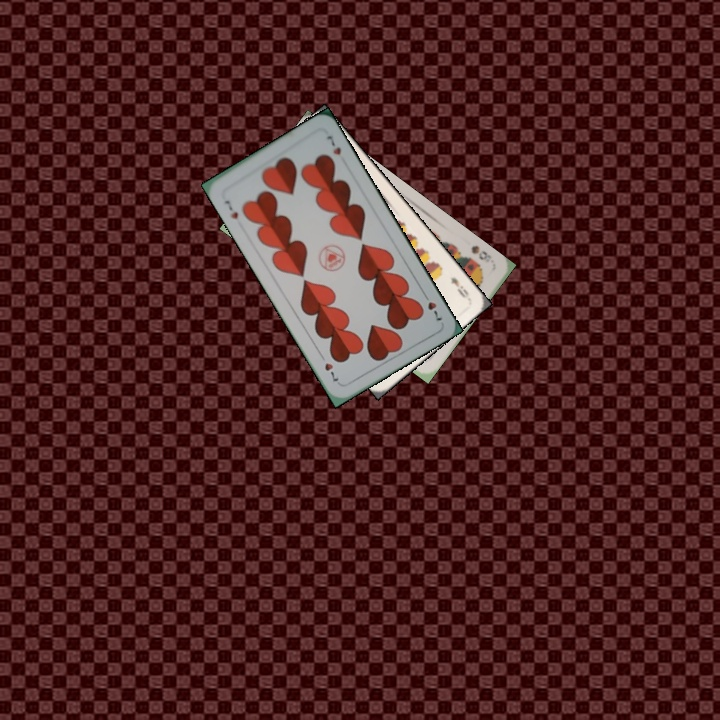E9: (446, 273, 471, 301)
H7: (419, 288, 445, 323), (221, 196, 241, 221)
S8: (467, 241, 494, 265)
